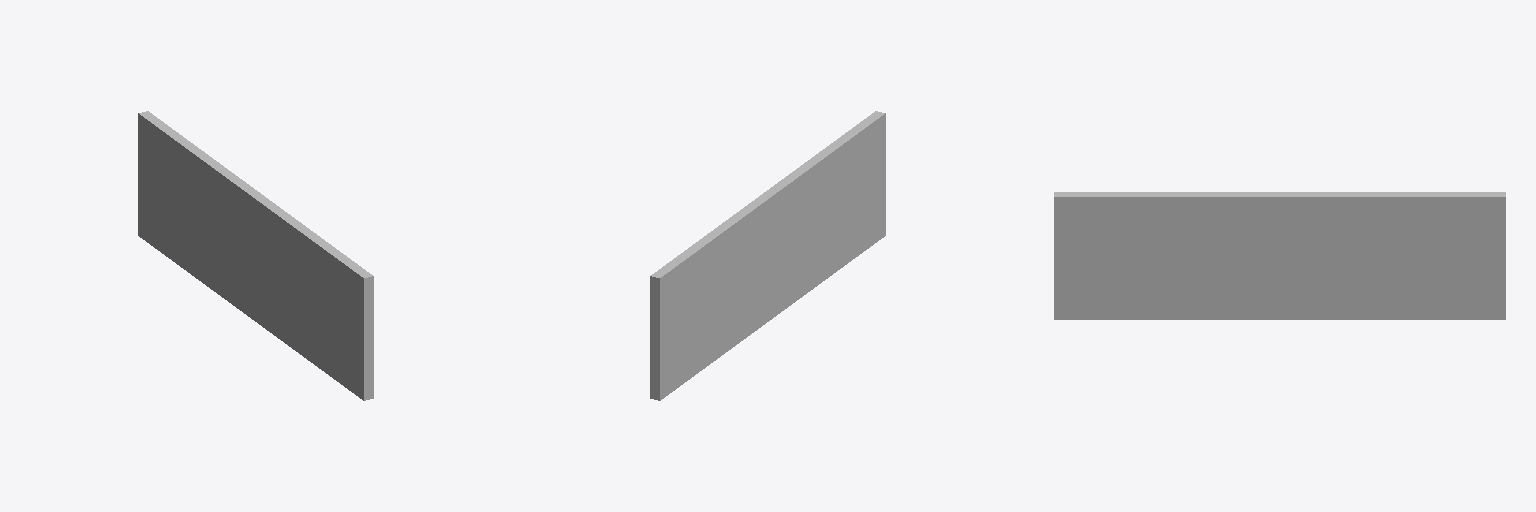
The model's file is rainbow.obj.
3 renders of one model, left to right at view 1: azimuth 30°, elevation 25°; view 2: azimuth 150°, elevation 25°; view 3: azimuth 270°, elevation 25°, orthographic.
Visible parts, largest first — view 1: object 1; view 2: object 1; view 3: object 1.
Boxes of the visible parts, x1=… form: object 1: x1=138, y1=111, x2=373, y2=400; object 1: x1=650, y1=111, x2=885, y2=400; object 1: x1=1054, y1=192, x2=1505, y2=319.
Size of the model in its own units: 0.1 by 1.2 by 4.